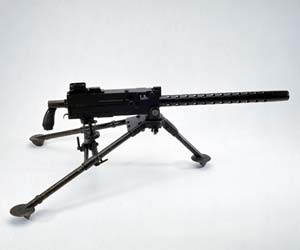rifle: (10, 74, 292, 224)
